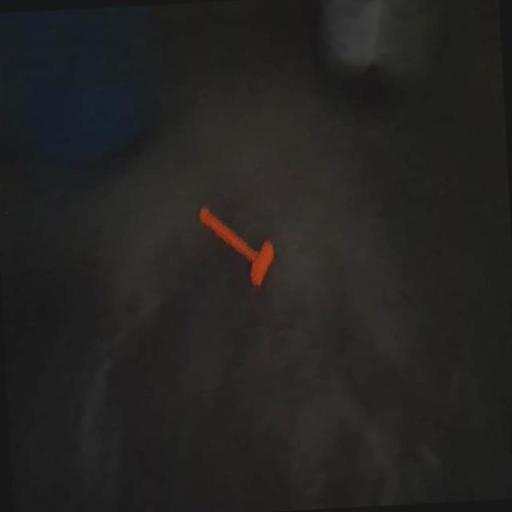mallet: (200, 203, 276, 288)
